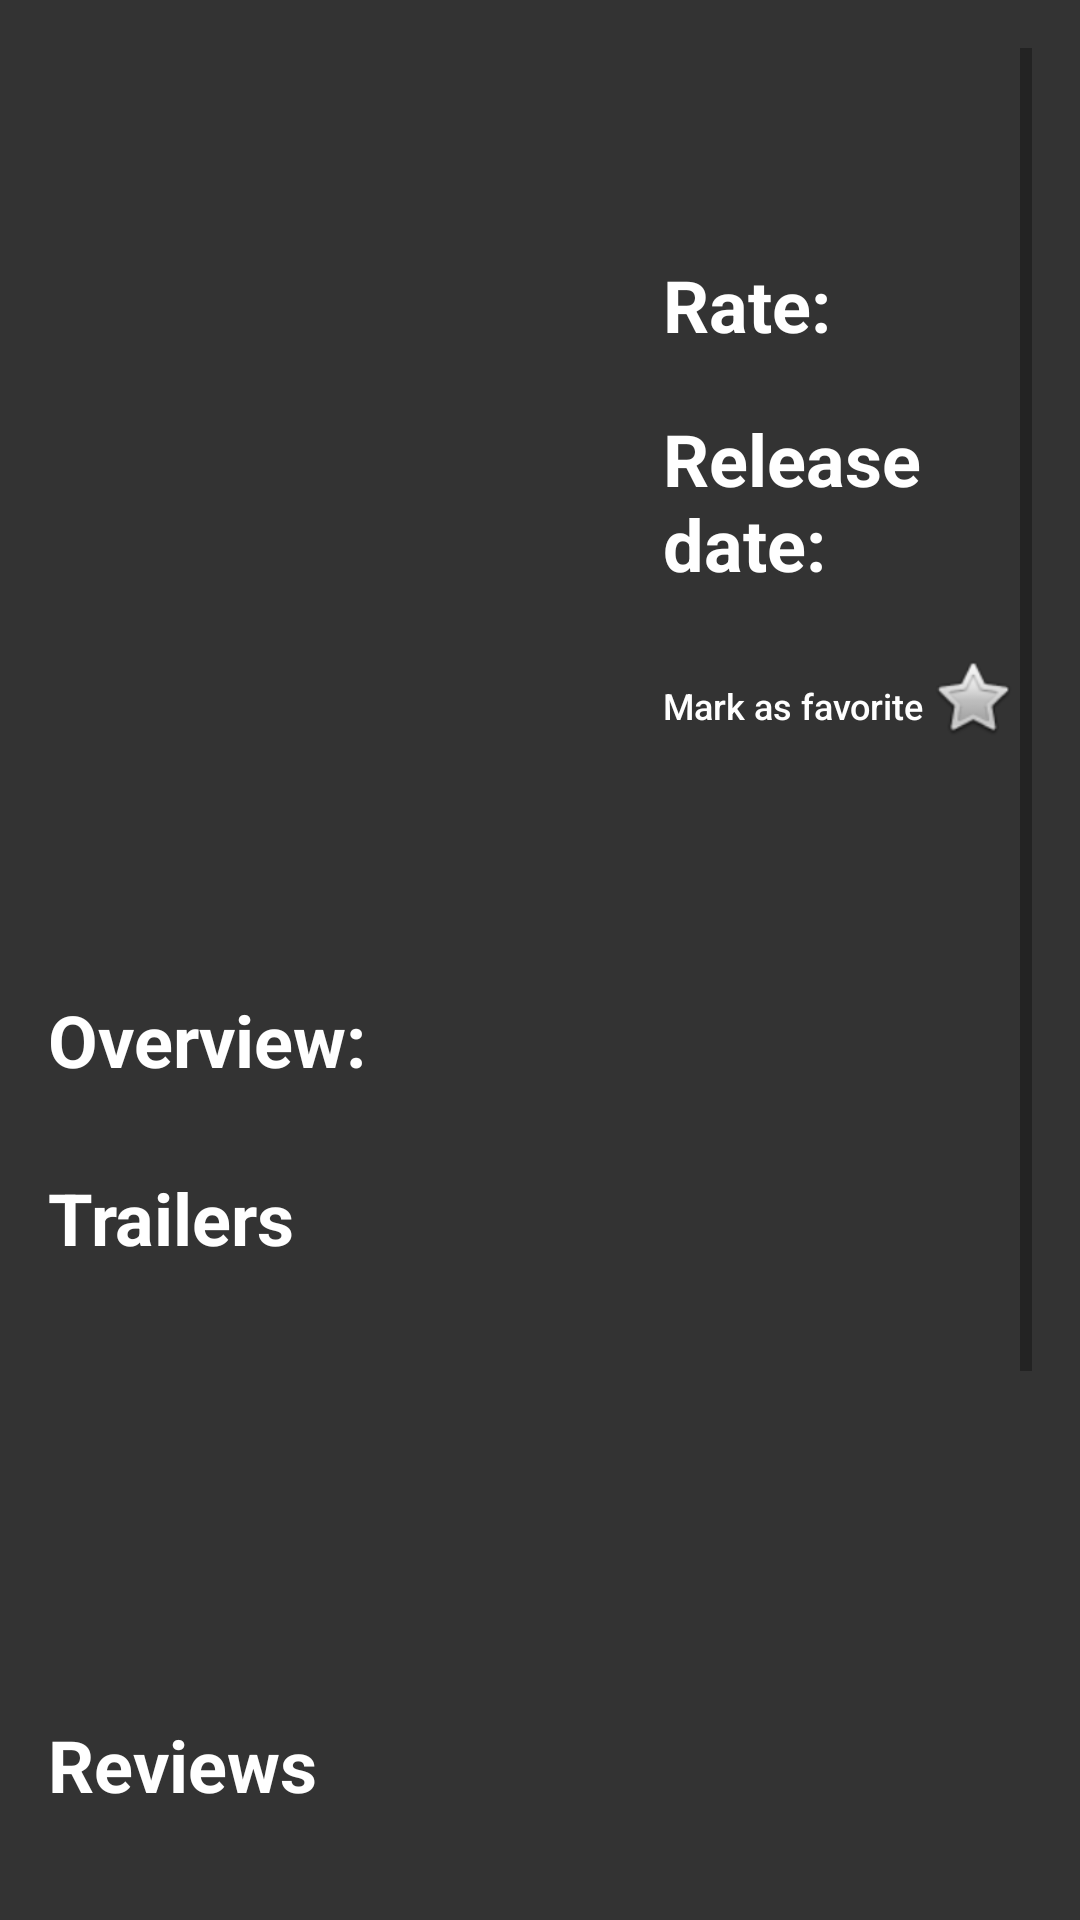

Icons on this 1080px x 1920px Android screen, each with the point to tap as point (x, y):
star off: point (973, 696)
